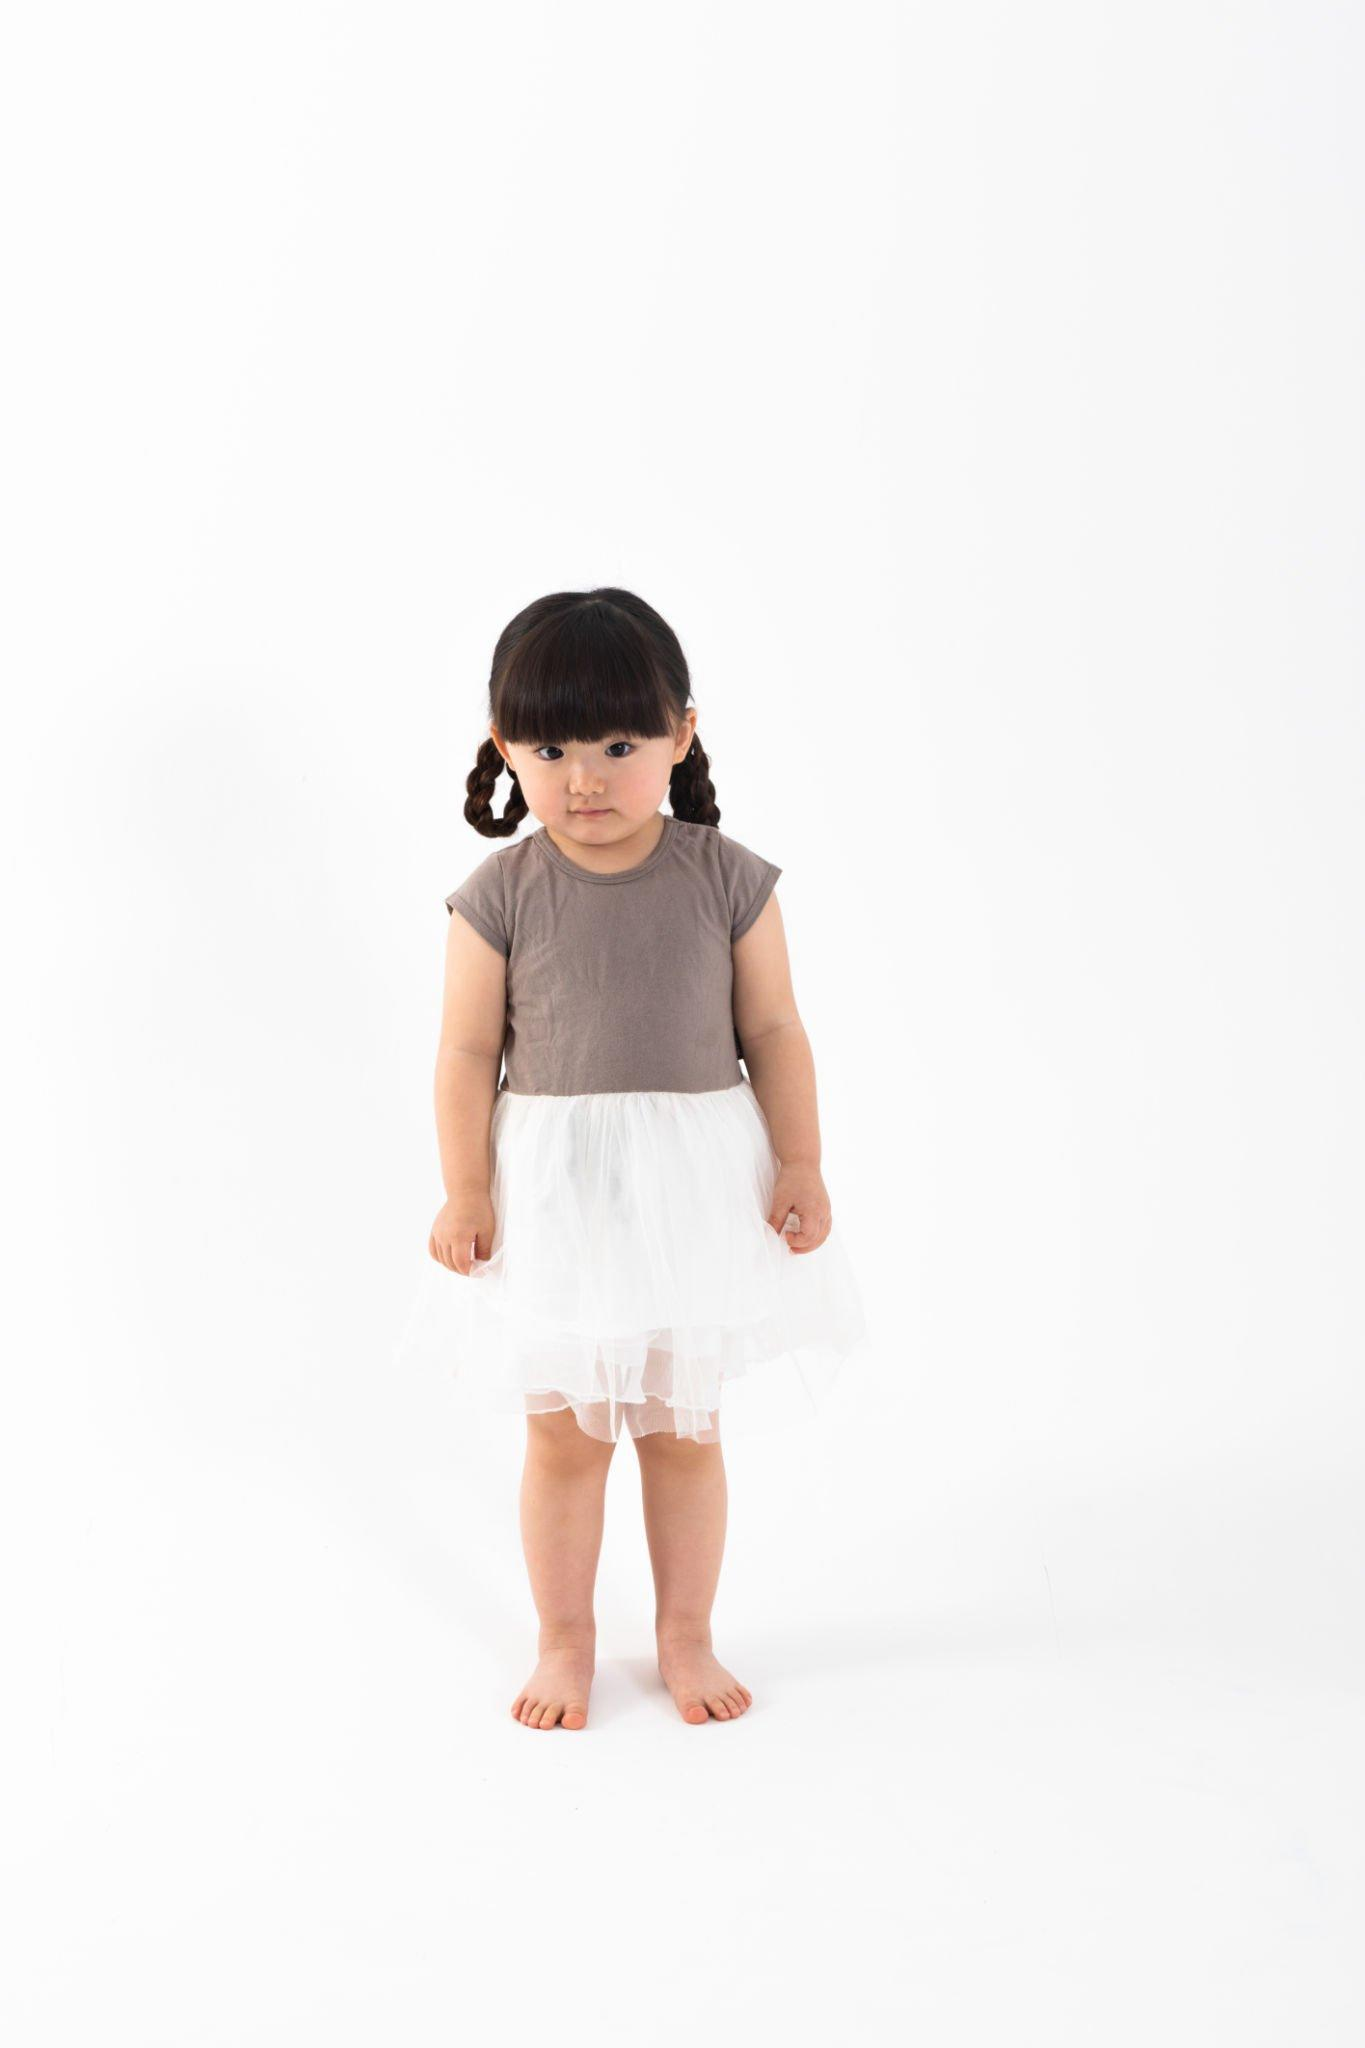Healthy: (462, 647, 699, 859)
